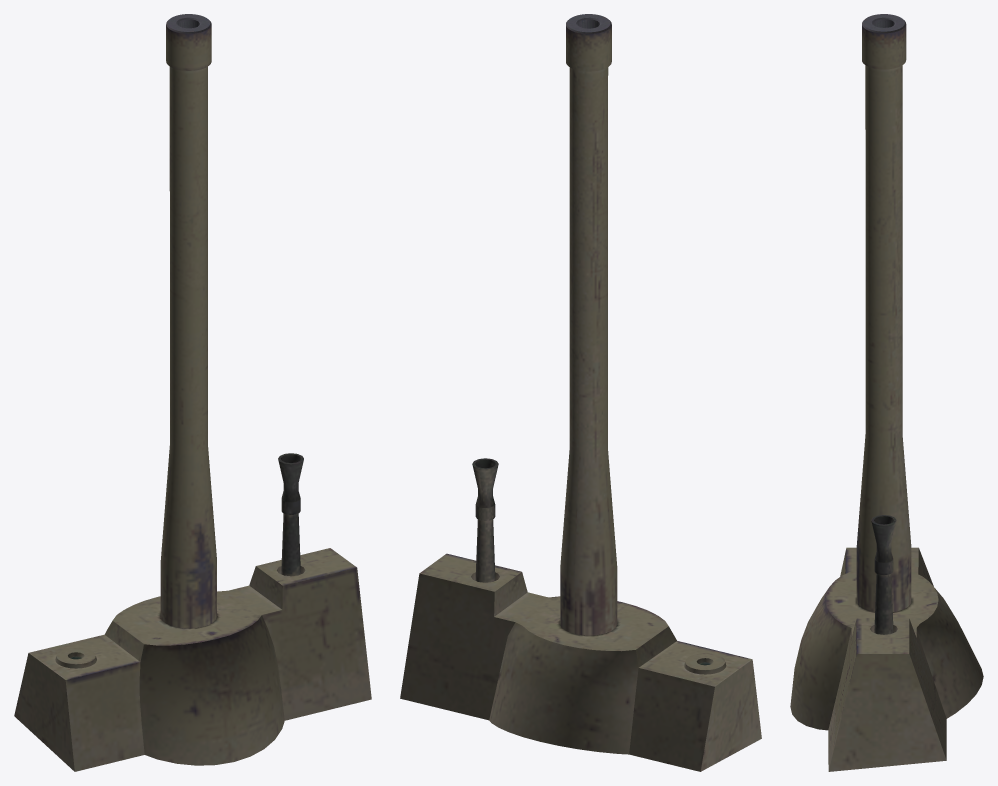
The model's file is Gun_03.glb.
The picture shows the model from 3 angles, left to right: view 1: azimuth 30°, elevation 25°; view 2: azimuth 150°, elevation 25°; view 3: azimuth 270°, elevation 25°; orthographic projection. The views are drawn at different scales.
Parts seen in each view (by area): view 1: set_0_group_0; view 2: set_0_group_0; view 3: set_0_group_0.
Boxes of the visible parts, bbox=[...] form: set_0_group_0: bbox=[14, 14, 371, 771]; set_0_group_0: bbox=[400, 14, 761, 771]; set_0_group_0: bbox=[790, 14, 983, 771].
Bounding box in the file's own units: 0.6387 × 1.44 × 0.3693.
1 material, 1 textured.
